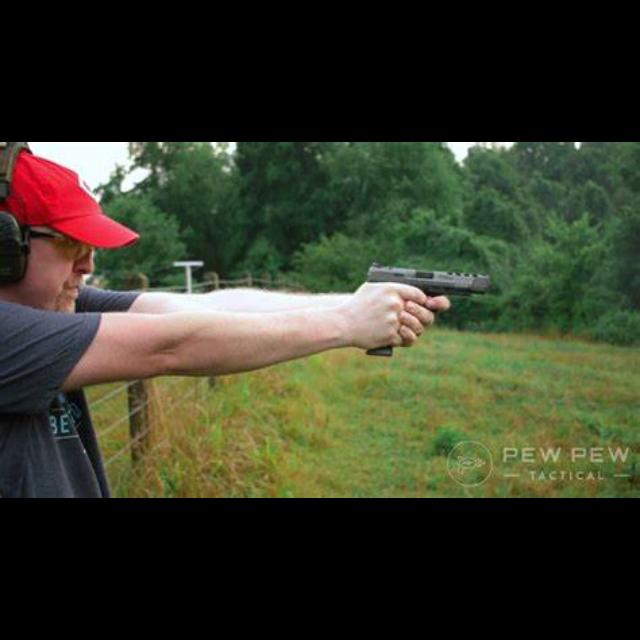handgun: (362, 260, 496, 314)
